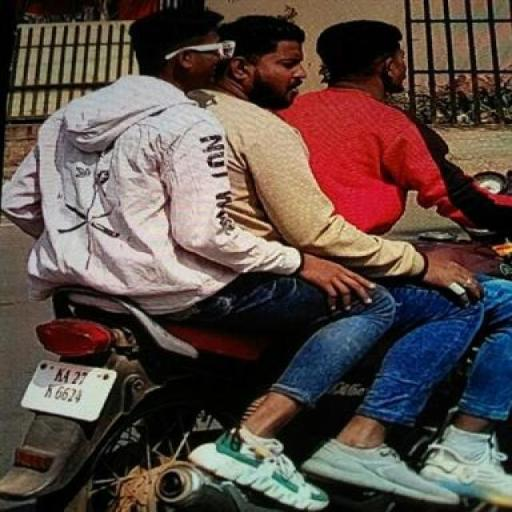tripple riding: (4, 9, 506, 328)
